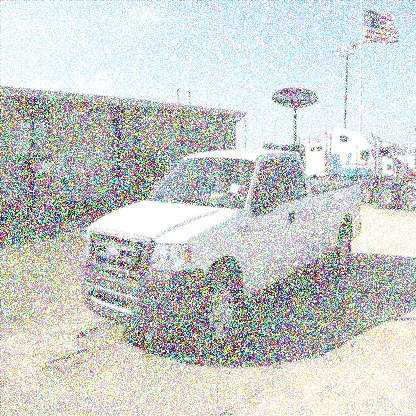Vehicle: (81, 150, 362, 356)
